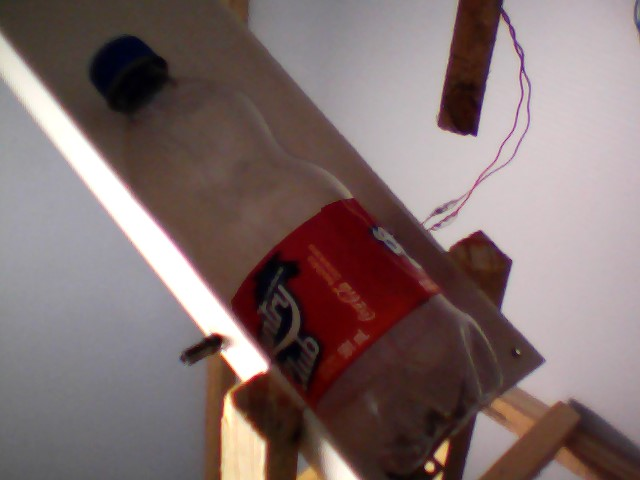plastico: (80, 29, 513, 477)
